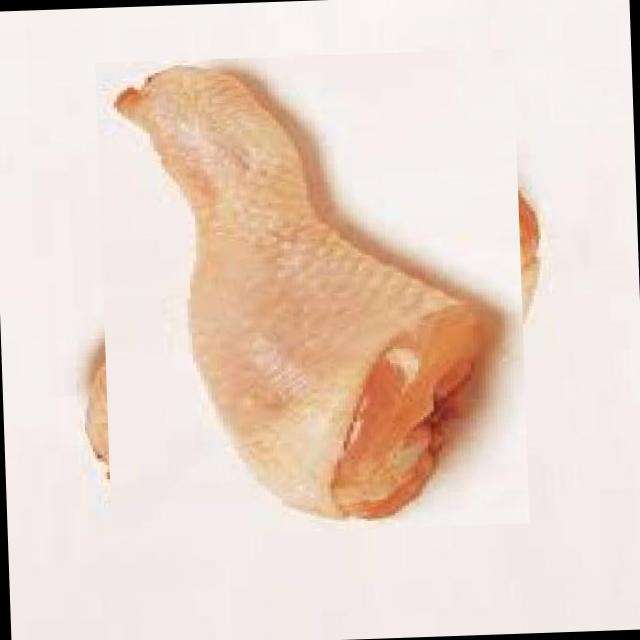chicken: (81, 62, 543, 524)
